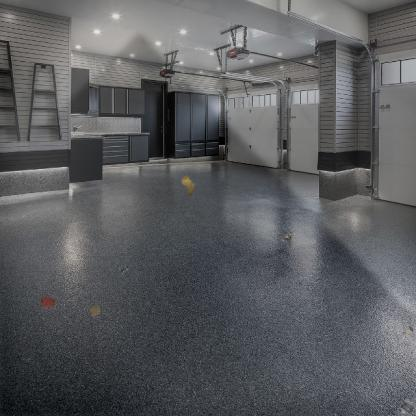dirty: (179, 173, 197, 196), (278, 229, 295, 249), (398, 397, 416, 415), (116, 262, 131, 275), (401, 324, 415, 336)
liquid: (40, 296, 56, 310), (88, 304, 102, 319)
